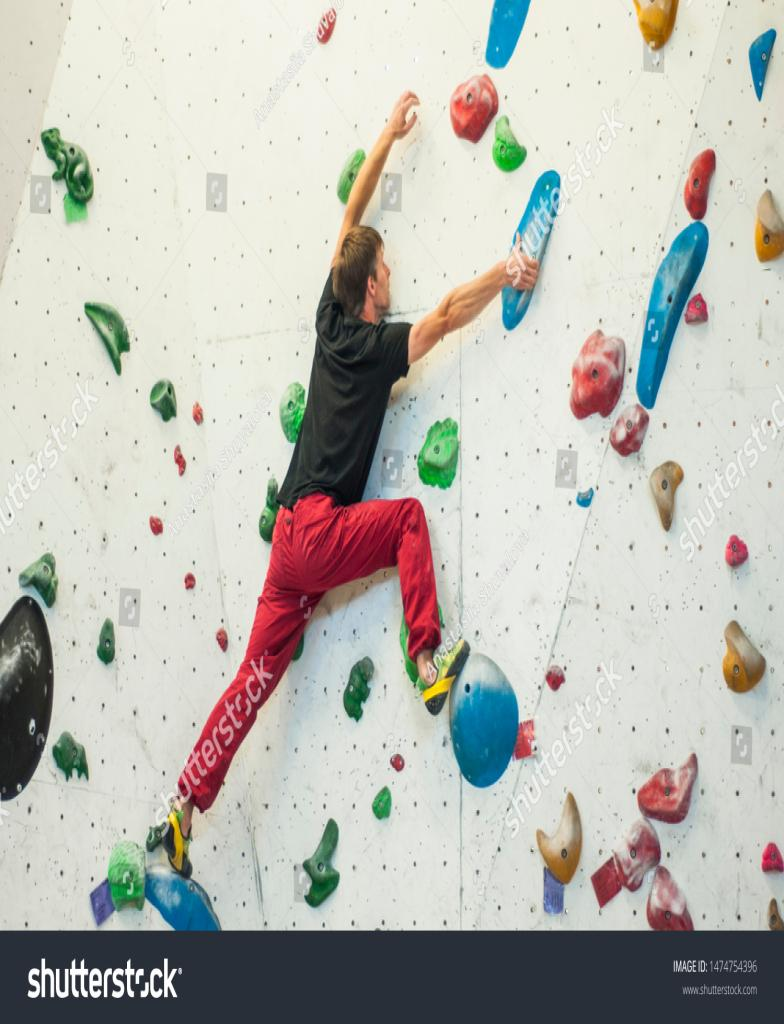crimp: (546, 664, 565, 690), (174, 446, 186, 476), (577, 488, 593, 506)
jib: (216, 627, 227, 651), (192, 402, 203, 424), (390, 754, 404, 771), (149, 518, 163, 534), (185, 574, 195, 589)
jug: (19, 552, 58, 606), (492, 116, 526, 171)
ledge: (637, 753, 697, 822), (614, 816, 661, 890), (647, 867, 693, 930)
pinch: (636, 221, 708, 408), (510, 170, 560, 264), (84, 303, 130, 374), (724, 621, 765, 689), (649, 461, 683, 530), (502, 288, 533, 329)
sidepull: (749, 29, 776, 99)
sloper: (449, 651, 518, 787), (537, 791, 582, 884)
tape: (591, 858, 621, 907), (90, 879, 114, 925), (544, 867, 563, 914)
